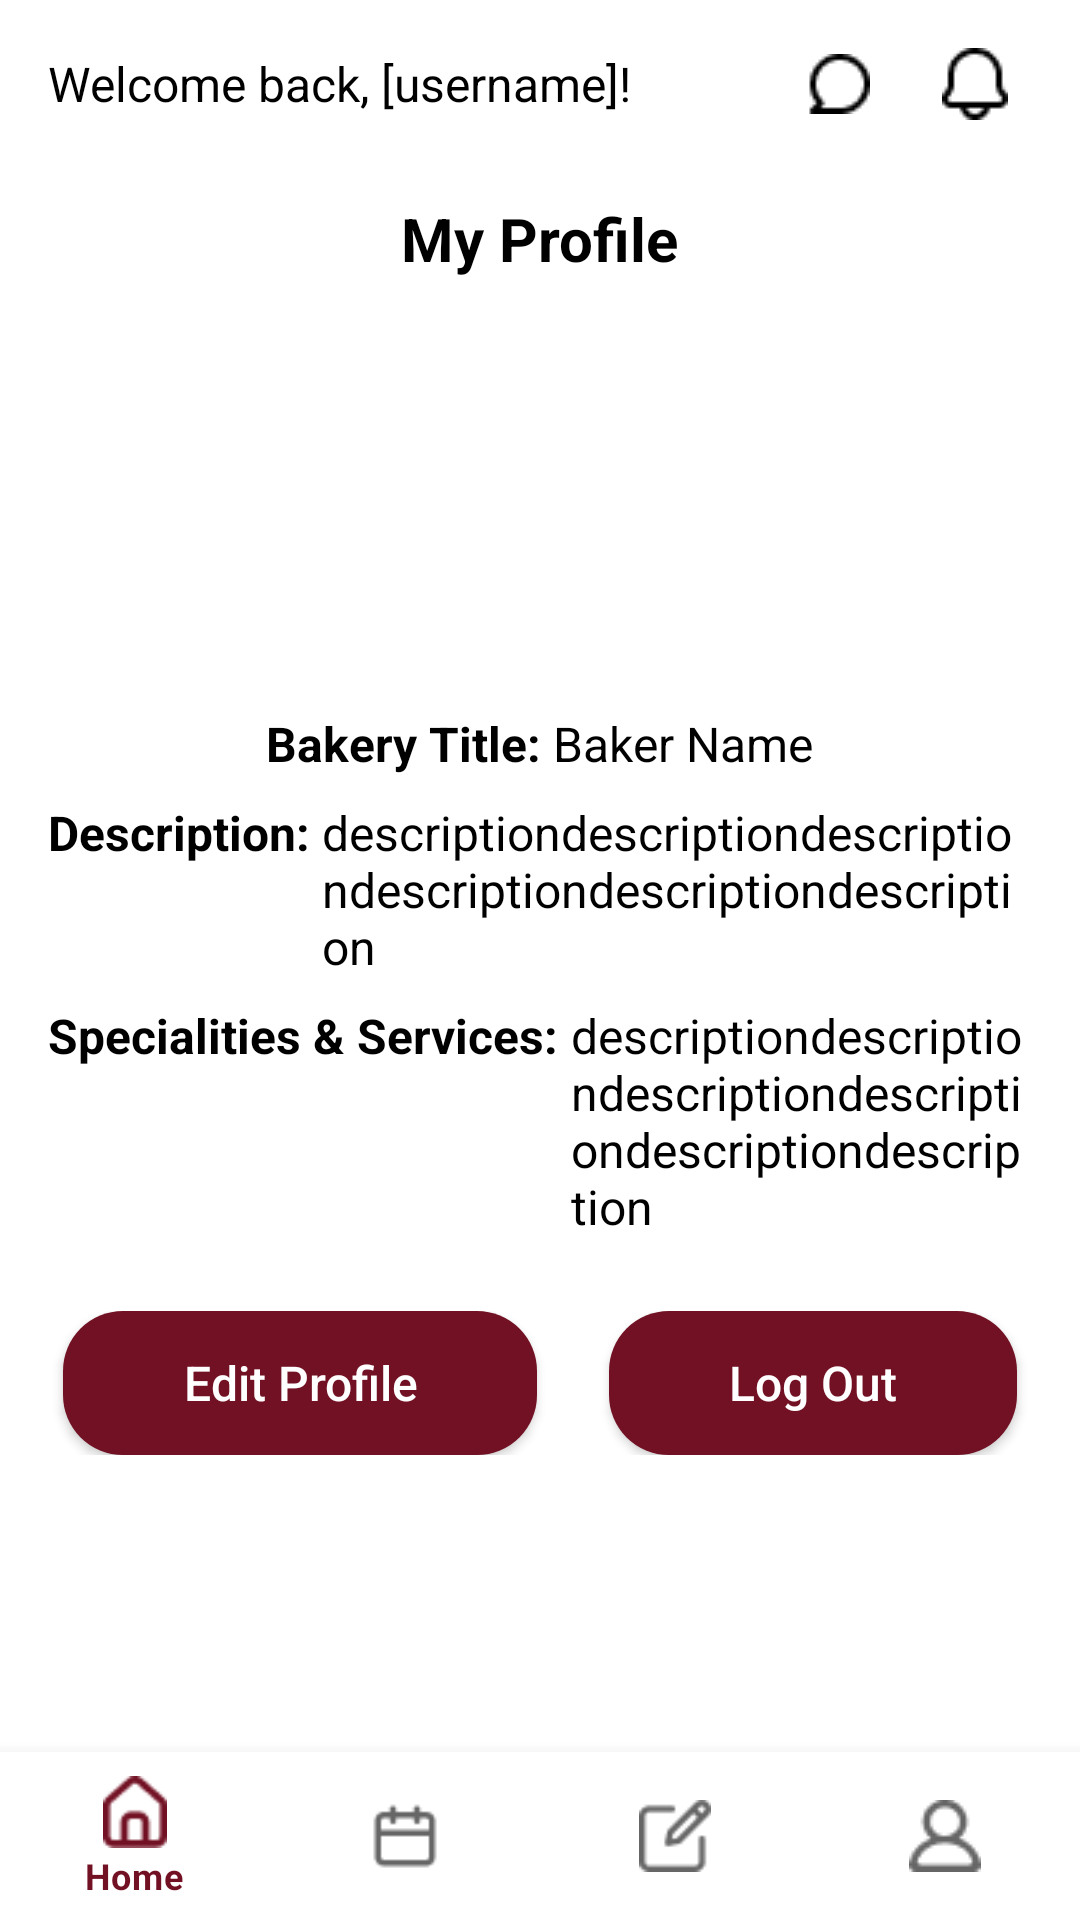

Icons on this 1080 x 1920 Android screen, each with the point to tap as point (x, y):
Chat Icon: point (839, 84)
Notification Icon: point (975, 84)
